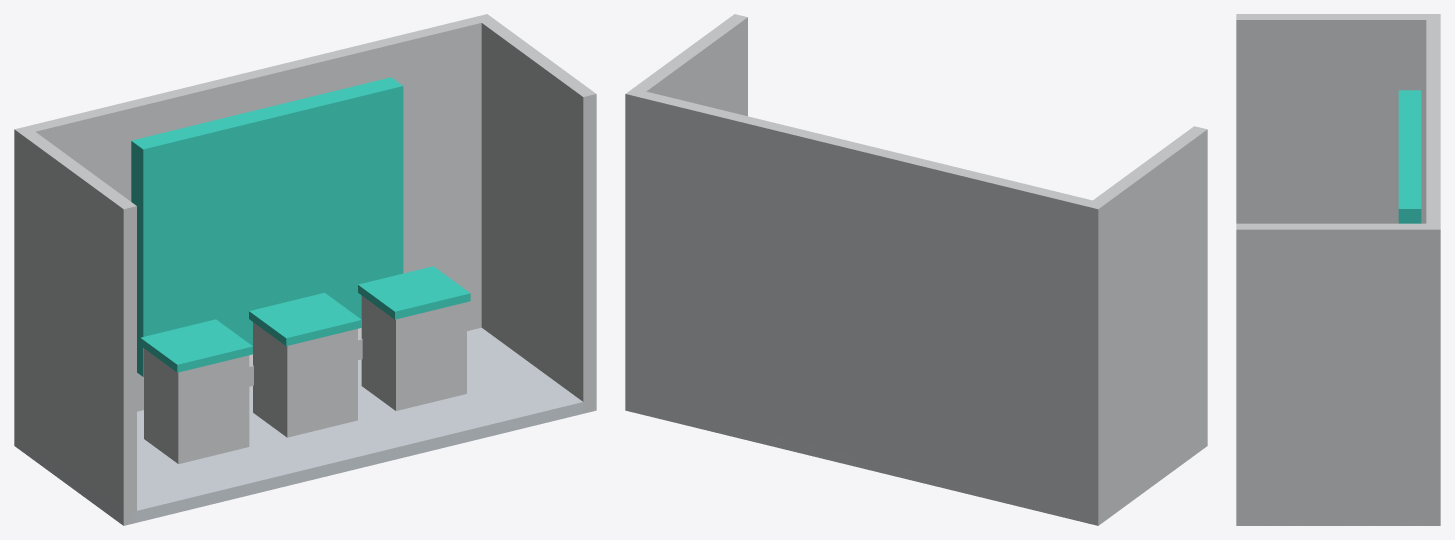
3 views of the same model, side by side, from view 1: azimuth 30°, elevation 25°; view 2: azimuth 150°, elevation 25°; view 3: azimuth 270°, elevation 25° (orthographic). The views are drawn at different scales.
Parts seen in each view (by area): view 1: Exhibition Booth Concept; view 2: Exhibition Booth Concept; view 3: Exhibition Booth Concept.
Part boxes in pixels (x1=…): Exhibition Booth Concept: x1=14, y1=14, x2=596, y2=525; Exhibition Booth Concept: x1=625, y1=14, x2=1207, y2=525; Exhibition Booth Concept: x1=1236, y1=14, x2=1440, y2=525.
Size of the model in its own units: 5 by 3.2 by 2.
